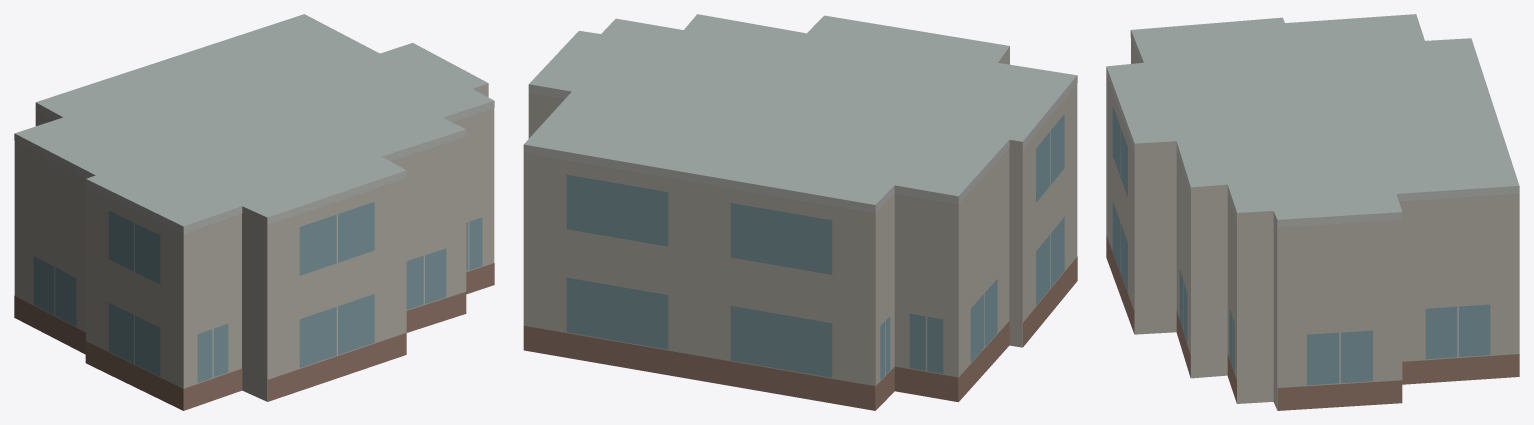
File: survey-upis-33037146.glb
3 renders of one model, left to right at view 1: azimuth 30°, elevation 25°; view 2: azimuth 150°, elevation 25°; view 3: azimuth 270°, elevation 25°, orthographic. The views are drawn at different scales.
Parts seen in each view (by area): view 1: survey-upis-33037146.tmp; view 2: survey-upis-33037146.tmp; view 3: survey-upis-33037146.tmp.
Part boxes in pixels (x1,y1,x2,y2): survey-upis-33037146.tmp: [14, 14, 494, 410]; survey-upis-33037146.tmp: [523, 14, 1077, 410]; survey-upis-33037146.tmp: [1106, 14, 1519, 410].
Bounding box in the file's own units: 14.11 × 6.1 × 11.97.
